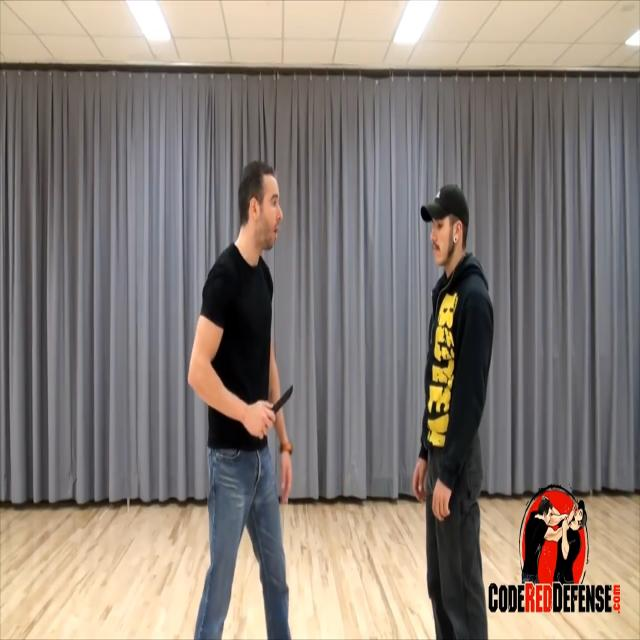knife: (272, 377, 296, 414)
